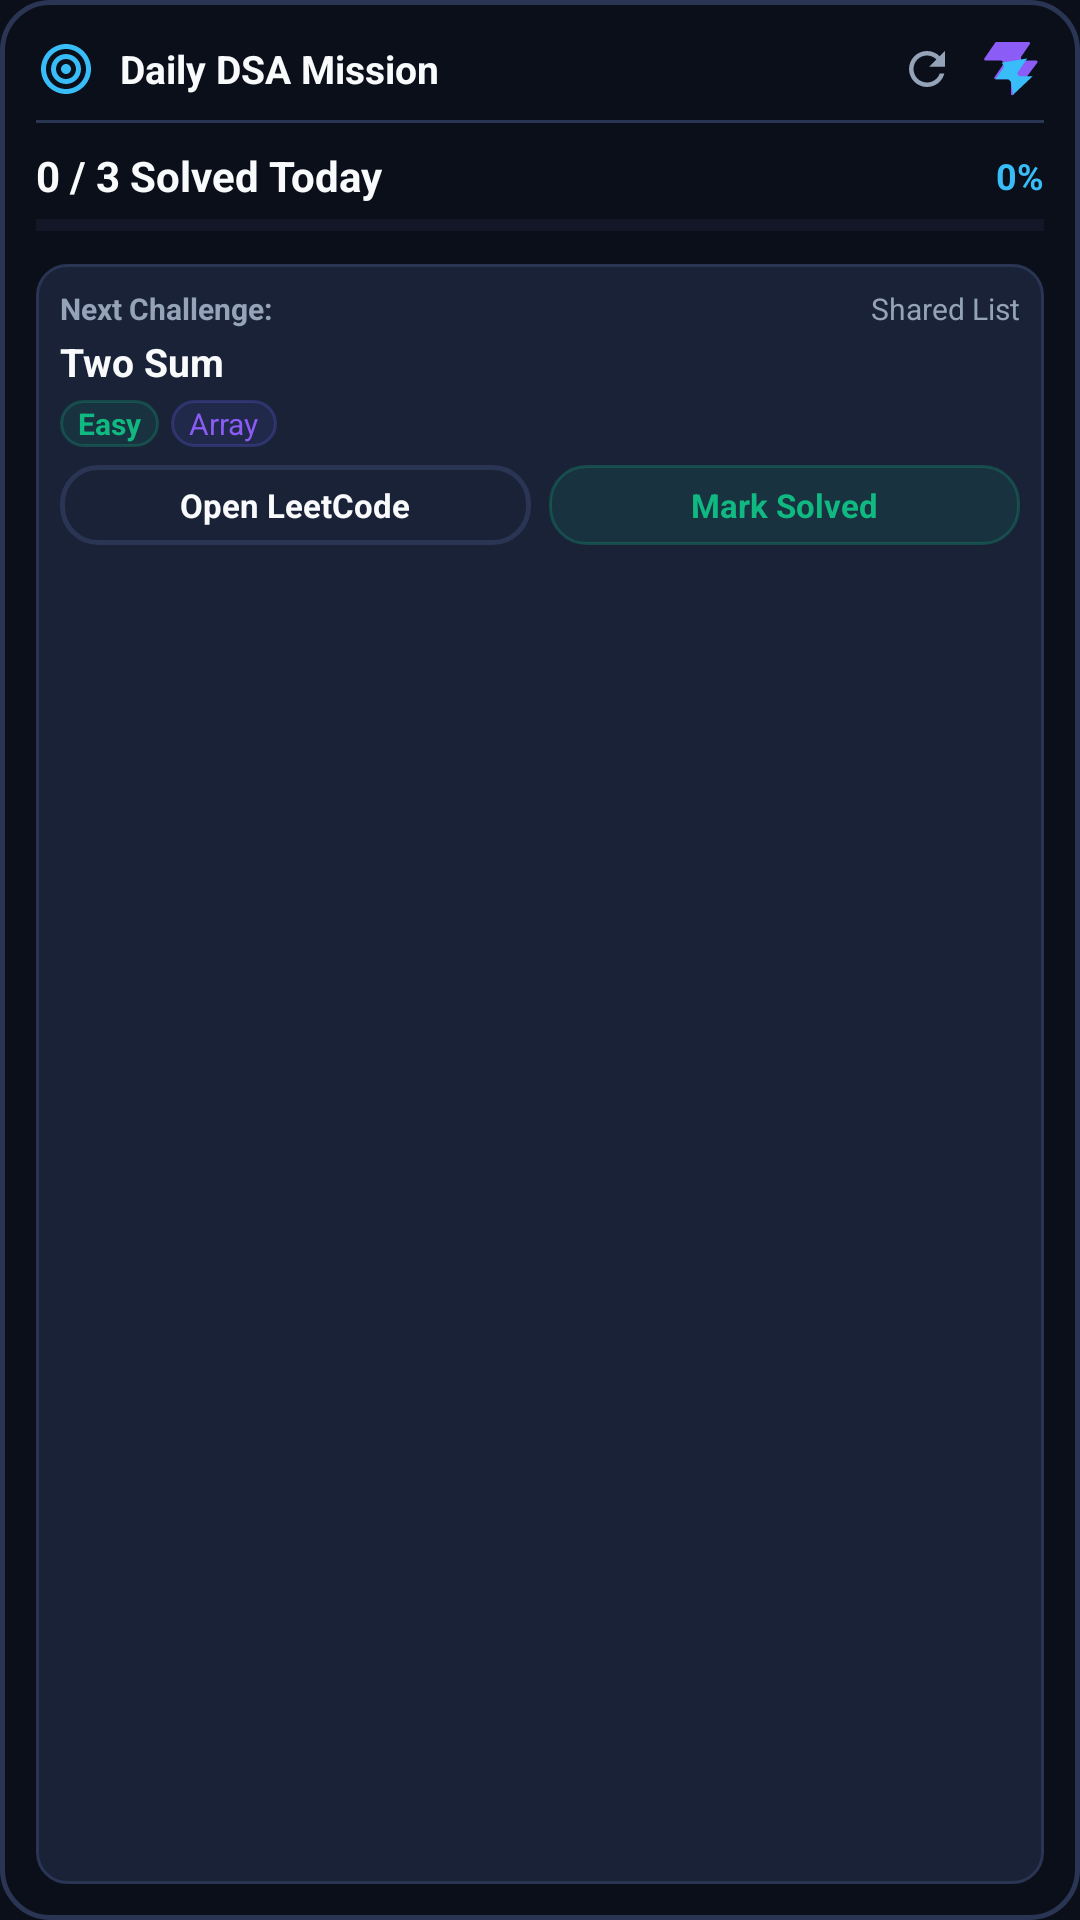

Icon bounding boxes for this 1080*1920 phone screenshot, format detection(x1, y1, x2, y2):
Refresh: detection(909, 51, 945, 87)
target: detection(41, 44, 91, 94)
